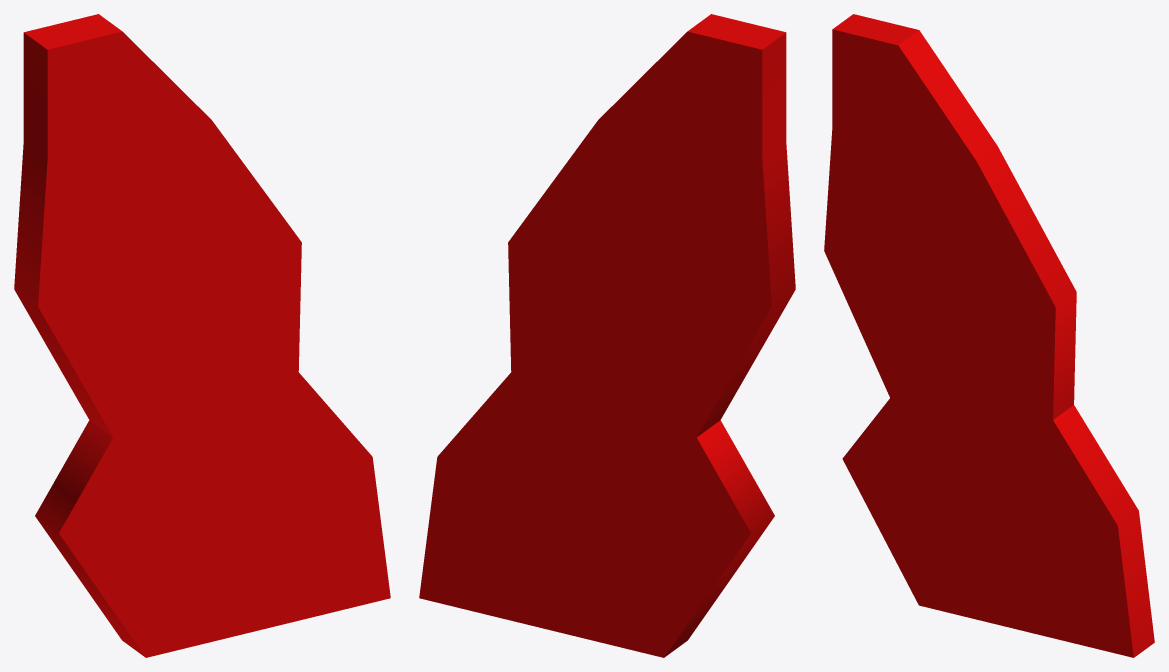
Rendered from Stalagtite_02.fbx.
3 renders of one model, left to right at view 1: azimuth 30°, elevation 25°; view 2: azimuth 150°, elevation 25°; view 3: azimuth 330°, elevation 25°, orthographic. The views are drawn at different scales.
Parts seen in each view (by area): view 1: Stalagtite; view 2: Stalagtite; view 3: Stalagtite.
Part boxes in pixels (left/top/right/bottom): Stalagtite: left=14, top=14, right=390, bottom=657; Stalagtite: left=419, top=14, right=795, bottom=657; Stalagtite: left=824, top=14, right=1154, bottom=657.
Bounding box in the file's own units: 3785 × 6481 × 444.
